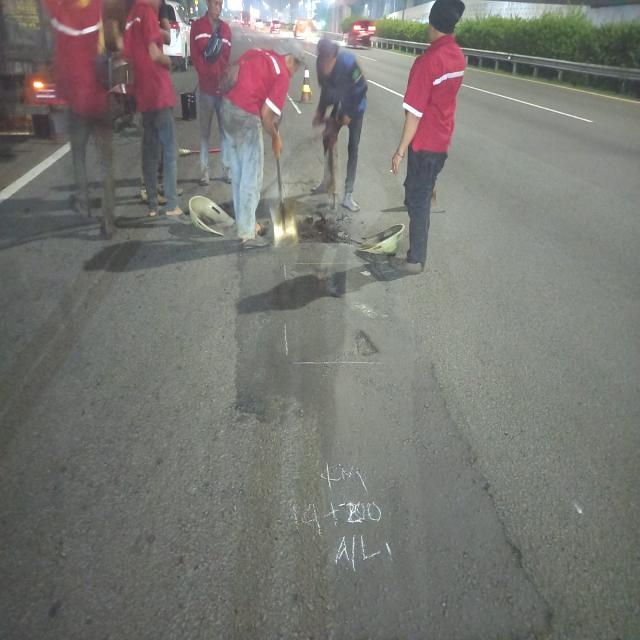Buraco: (352, 328, 382, 358)
